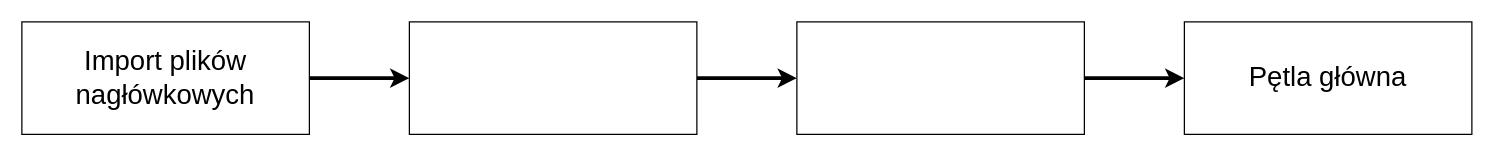
The diagram is 1494 pixels wide and 156 high, and some of its shapes have lost their labels. Here are the shapes that lost their labels. From the top down, the box of each, then its label:
(408, 21, 697, 134): Deklaracja zmiennych globalnych
(796, 21, 1084, 134): Inicjalizacja peryferiów
